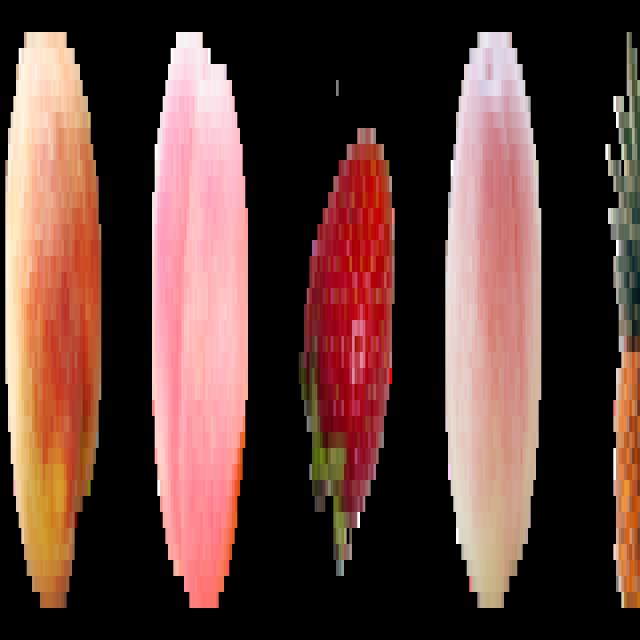peach: (147, 19, 256, 625), (2, 13, 108, 619), (443, 16, 545, 620)
strawberry: (294, 73, 398, 595)
